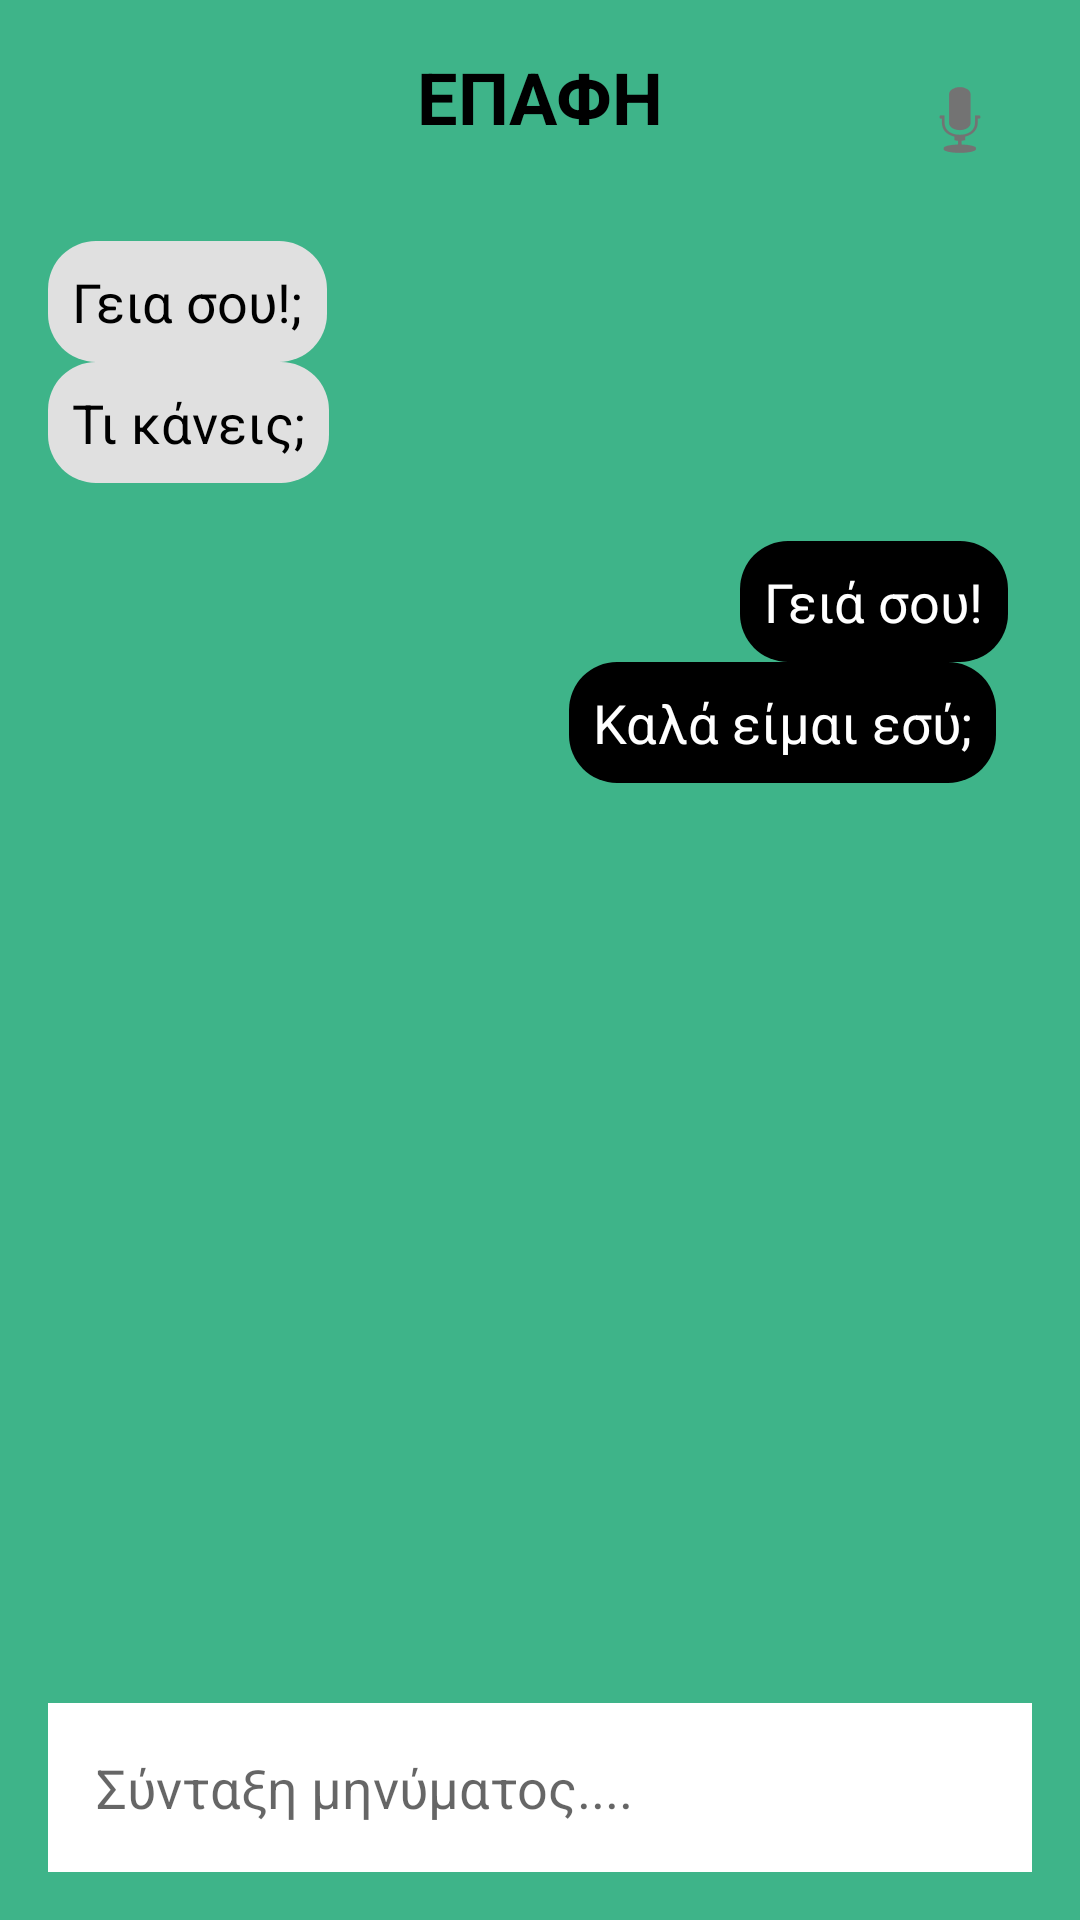

Named icons in this screenshot (1080 × 1920) and their bounding boxes, bbox(x1, y1, x2, y2):
speak now: bbox(939, 87, 980, 153)
